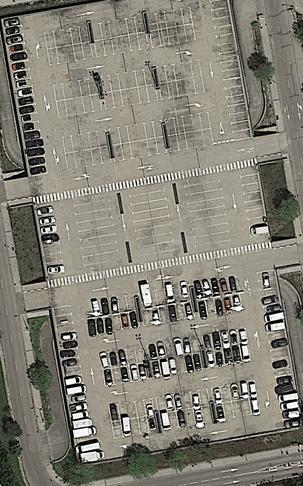parkingspot: (53, 305, 102, 465), (1, 16, 49, 176), (256, 269, 303, 429), (208, 0, 252, 142), (34, 201, 67, 281), (127, 184, 159, 265), (90, 191, 122, 271), (201, 172, 233, 252), (238, 165, 270, 245), (146, 181, 177, 262), (72, 194, 103, 274), (183, 176, 214, 255), (90, 14, 146, 42), (159, 404, 214, 432), (93, 31, 150, 58), (99, 67, 156, 94), (109, 119, 164, 146), (137, 283, 192, 310), (102, 84, 158, 110), (155, 388, 211, 414), (112, 136, 167, 162), (146, 336, 201, 362), (149, 352, 204, 378), (141, 301, 196, 326), (88, 310, 140, 336), (155, 58, 203, 85), (43, 24, 91, 50), (61, 129, 109, 155), (46, 41, 95, 66), (147, 6, 194, 32), (167, 127, 214, 153), (214, 397, 261, 423), (52, 77, 100, 102), (64, 146, 112, 171), (110, 414, 158, 439), (192, 275, 240, 300), (196, 292, 244, 317), (158, 76, 205, 101), (149, 23, 196, 48), (164, 111, 211, 136), (211, 380, 258, 405), (102, 362, 149, 387), (202, 328, 249, 353), (205, 344, 252, 369), (90, 293, 137, 318), (108, 398, 156, 422), (56, 94, 103, 118), (99, 346, 145, 370)
